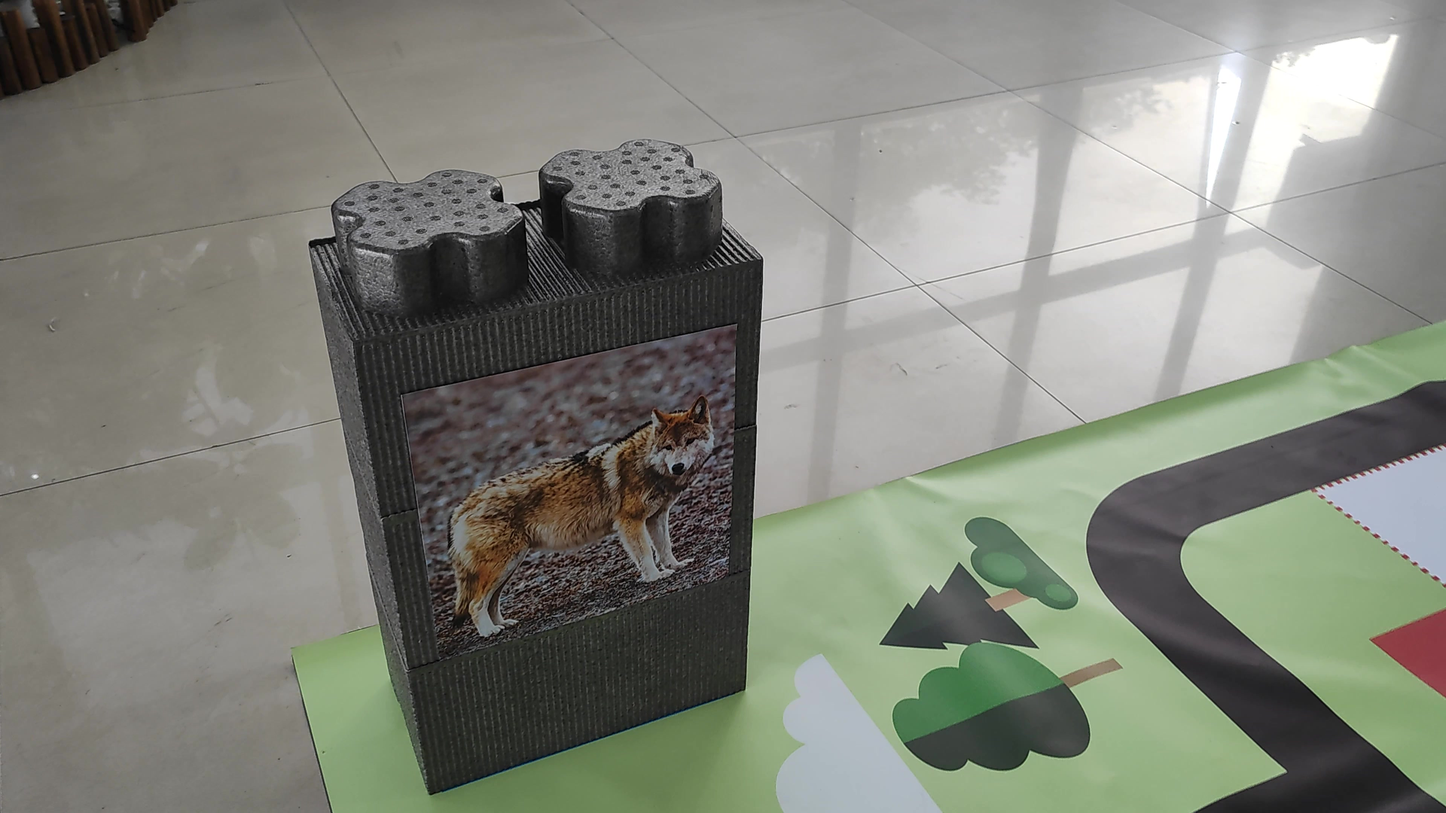wolf: (451, 385, 707, 658)
